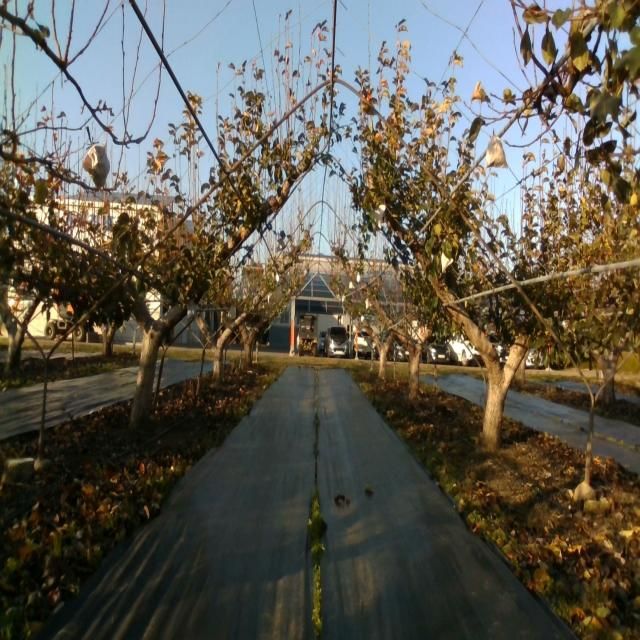pearbags: (82, 138, 110, 189), (485, 128, 507, 170), (373, 204, 386, 229)
